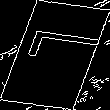L_E: (9, 34, 101, 76)
